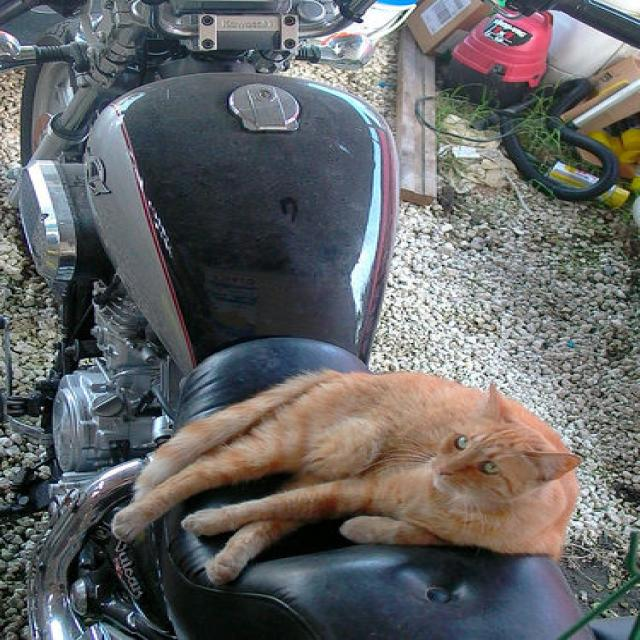motor: (0, 3, 594, 629)
